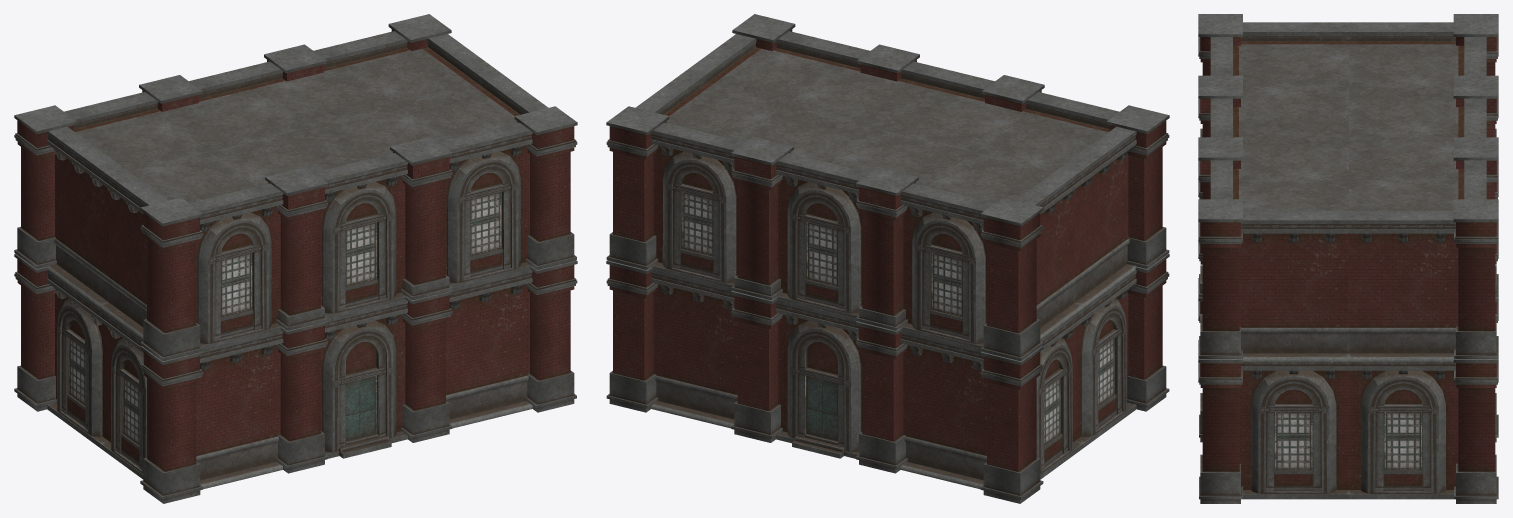
File: nyc-bank-size-5.glb
3 renders of one model, left to right at view 1: azimuth 30°, elevation 25°; view 2: azimuth 150°, elevation 25°; view 3: azimuth 270°, elevation 25°, orthographic.
Parts seen in each view (by area): view 1: Building_03E_Prefab; view 2: Building_03E_Prefab; view 3: Building_03E_Prefab.
Boxes of the visible parts, x1,y1,x2,y2 form: Building_03E_Prefab: (14,14,577,503); Building_03E_Prefab: (606,14,1169,503); Building_03E_Prefab: (1198,14,1498,503).
Bounding box in the file's own units: 13.31 × 8.63 × 8.23.
Materials: 1 (1 with a texture image).
